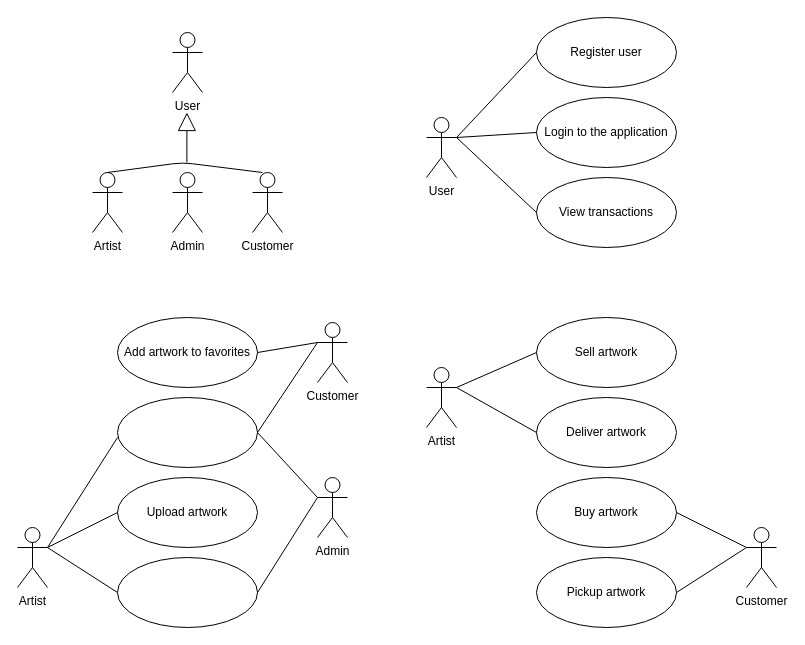
Image size: 805x645. Some labels were removed from this diagram. The box of each missing label's shape, as (x1, y1, x2, y2) in pixels:
Browse artwork: (116, 396, 258, 468)
Remove artwork: (116, 556, 258, 628)
